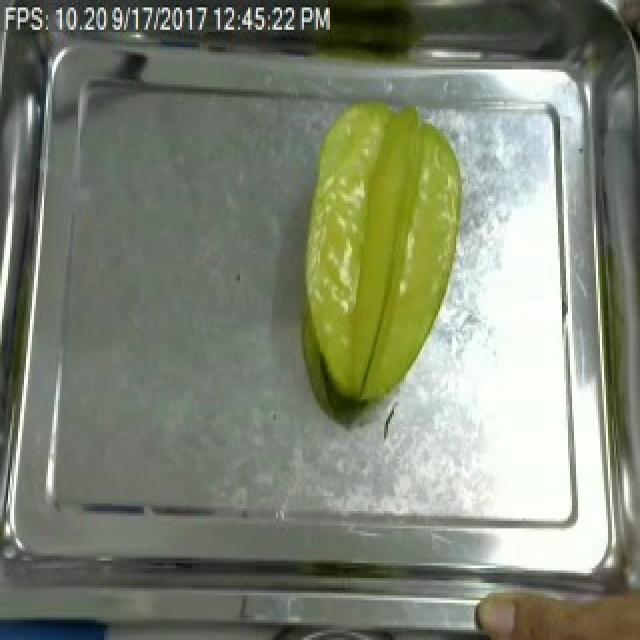fruit: (292, 94, 468, 414), (466, 565, 640, 640)
